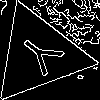Y: (14, 29, 73, 84)
